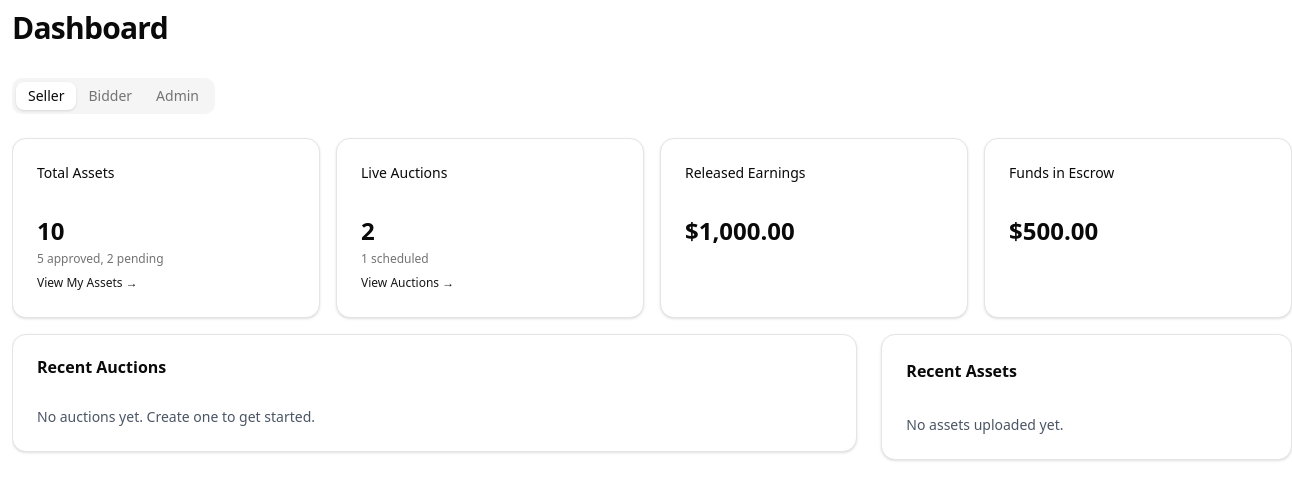
Dashboard Page › displays admin stats and dispute manager when Admin tab clicked
Click the tab "Admin": coordinates (178, 96) [144,82,211,110]
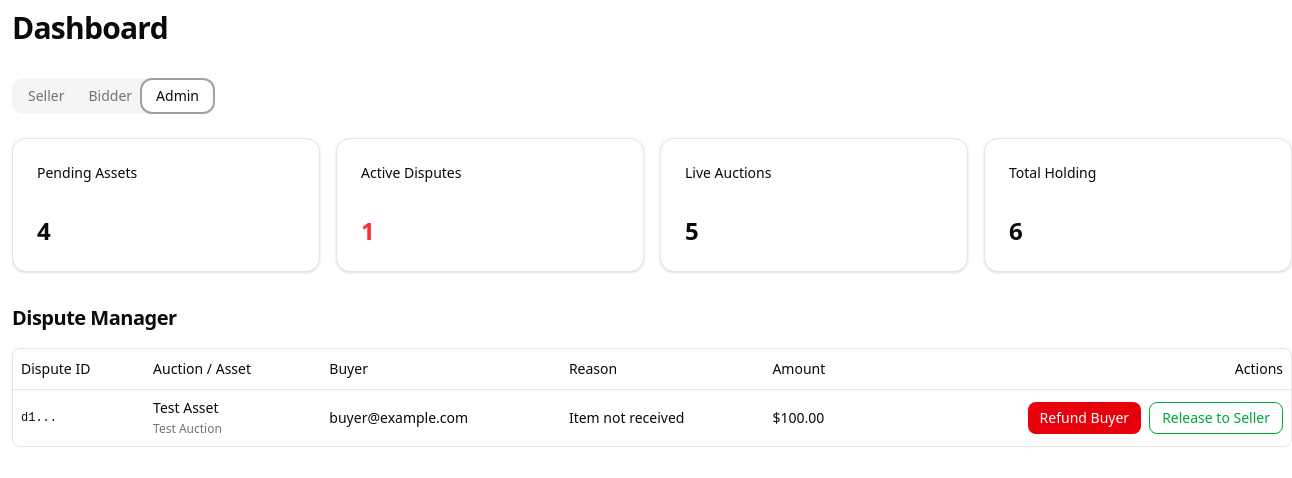
Expected: the text "Pending Assets" is shown, [37,163,137,183]
Expected: the text "4" is shown, [37,214,51,247]
Expected: the heading "Dispute Manager" is shown, [12,304,177,331]
